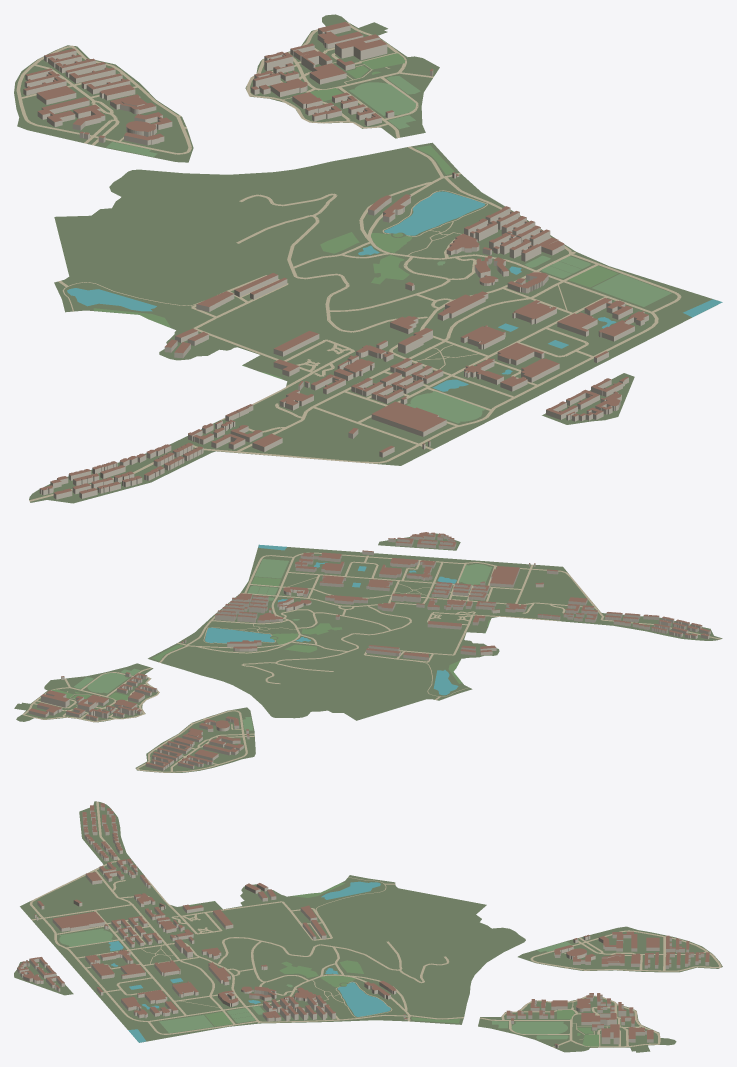
The picture shows the model from 3 angles, top to bottom: view 1: azimuth 30°, elevation 25°; view 2: azimuth 150°, elevation 25°; view 3: azimuth 270°, elevation 25°; orthographic projection. The views are drawn at different scales.
Parts seen in each view (by area): view 1: campus-ground, environment (×4), buildings, roofs; view 2: campus-ground, environment (×4), buildings, roofs; view 3: campus-ground, environment (×4), roofs, buildings.
Part boxes in pixels (x1,y1,x2,y2): campus-ground: [14, 14, 717, 503]; environment (×4): [16, 22, 722, 501]; buildings: [23, 25, 648, 499]; roofs: [24, 21, 648, 494]; campus-ground: [14, 533, 722, 772]; environment (×4): [22, 544, 720, 772]; buildings: [28, 533, 710, 770]; roofs: [29, 532, 710, 767]; campus-ground: [14, 801, 722, 1052]; environment (×4): [29, 801, 721, 1047]; roofs: [17, 803, 709, 1044]; buildings: [17, 805, 709, 1048].
Bounding box in the file's own units: 1889 × 23.2 × 2249.
